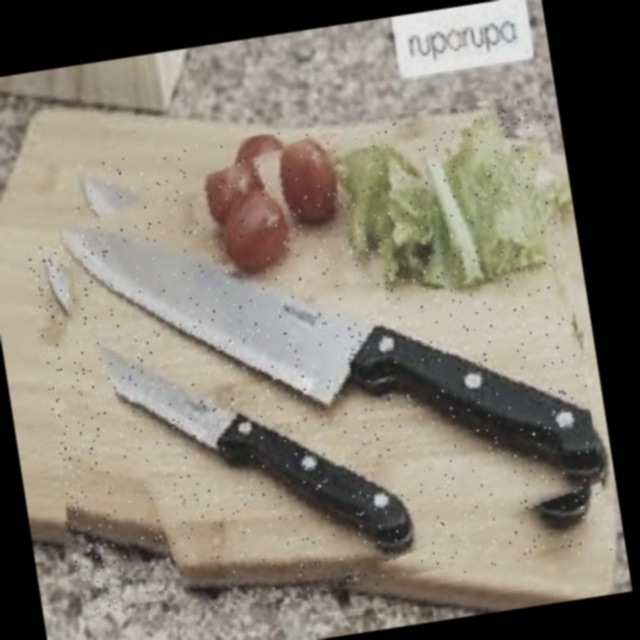Sharp-Object: (64, 92, 612, 624), (27, 198, 395, 617)
